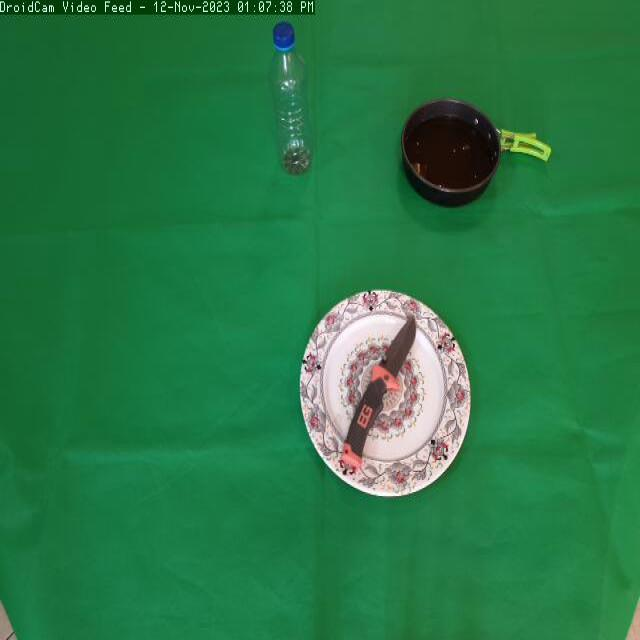bottle: (266, 22, 315, 189)
fullpan: (394, 92, 557, 219)
knife: (338, 312, 419, 476)
plate: (301, 288, 481, 512)
